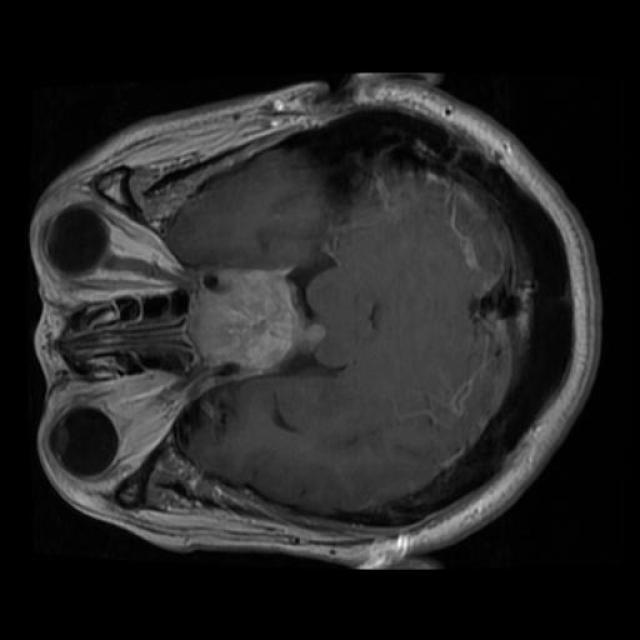Pituitary: (188, 270, 324, 384)
